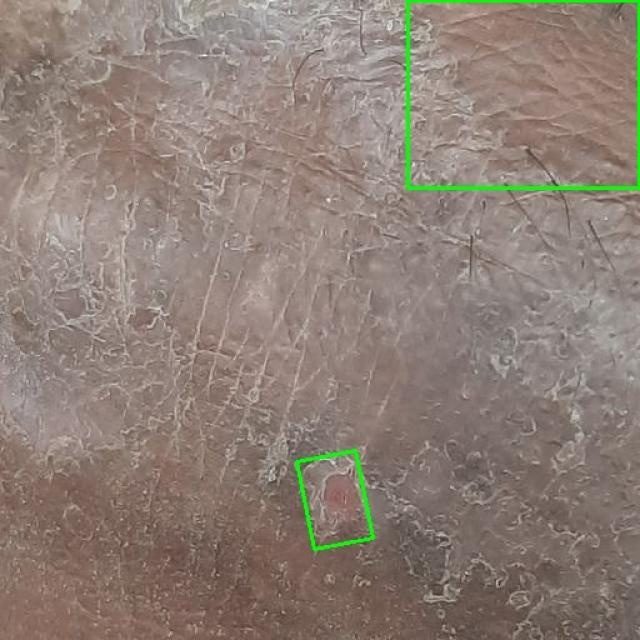Eczema: (408, 0, 639, 188), (297, 450, 373, 549)
